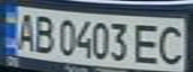0: (54, 16, 78, 56), (90, 18, 112, 61)
3: (109, 19, 133, 62)
4: (72, 17, 93, 59)
A: (12, 10, 39, 52)
B: (30, 11, 57, 54)
C: (154, 21, 190, 65)
E: (130, 20, 163, 65)
